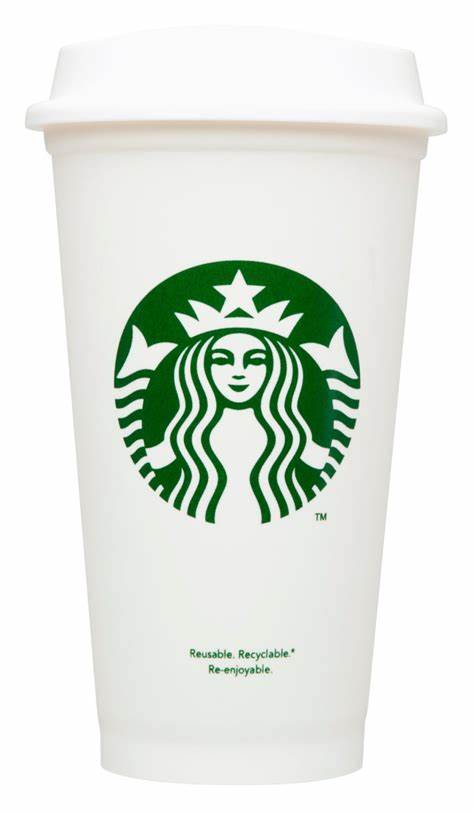starbucks Originale: (104, 252, 376, 532)
